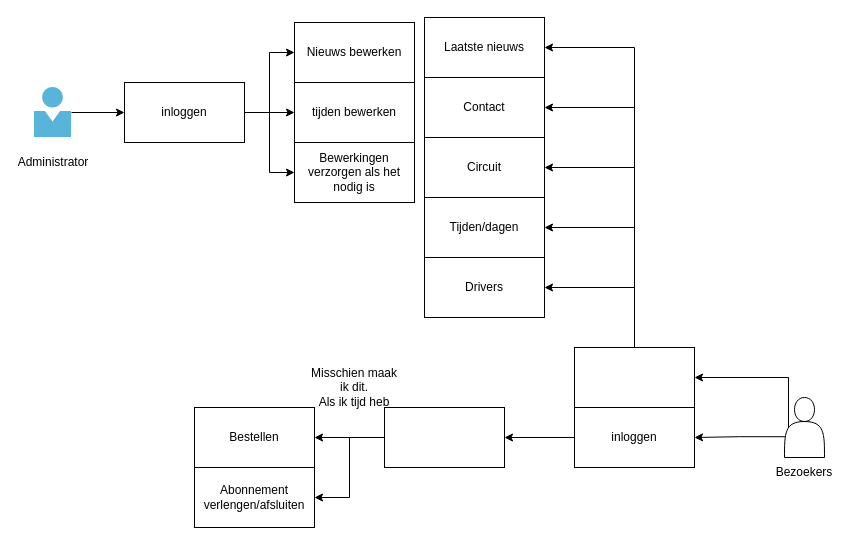
Image size: 851x545. Some labels were removed from this diagram. Each missing label, with the box of its shape:
informatie vinden: (574, 346, 694, 408)
Tickets: (384, 406, 504, 468)
